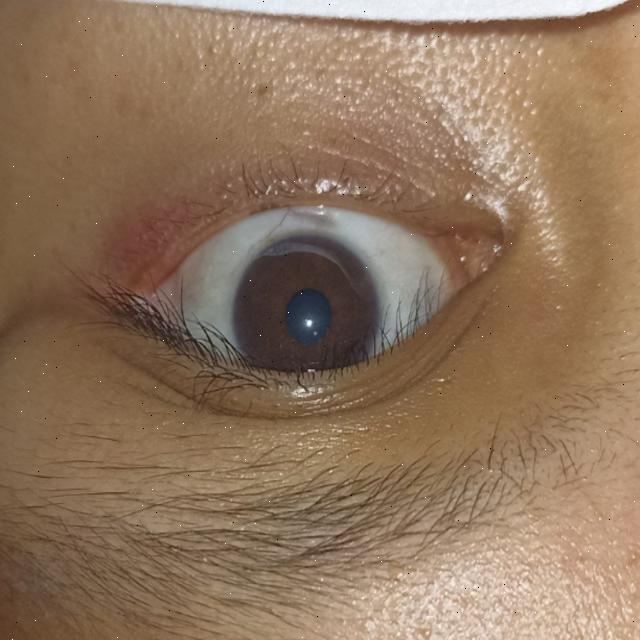Normal: (232, 234, 382, 390)
